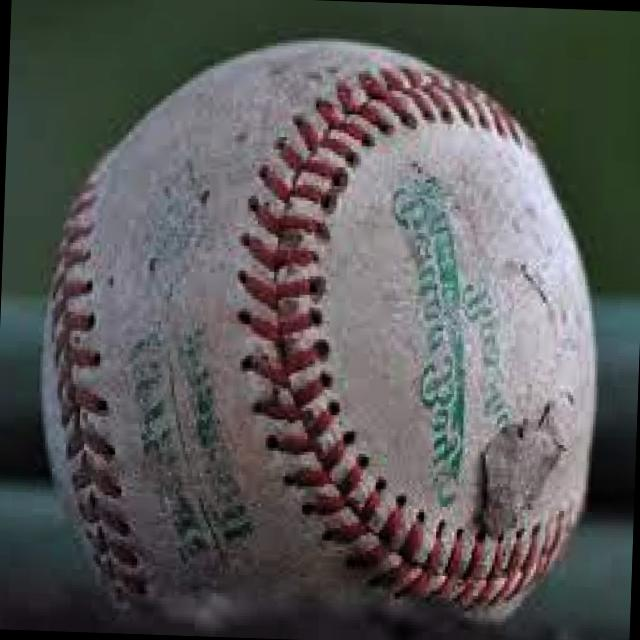ball: (28, 26, 611, 640)
